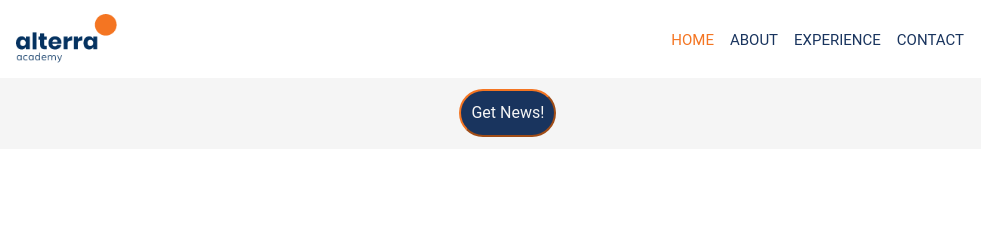
Scenario: News testing › tes jumlah berita
Click the button at (508, 113), box [459,89,556,137]
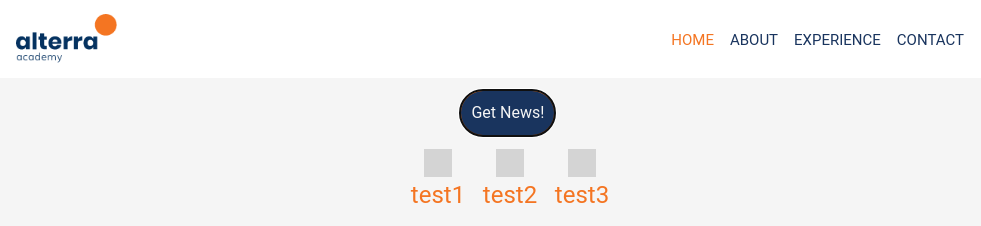
Result: the number of list items is 3 at [411,148,465,209]; [483,148,537,209]; [555,148,609,209]
